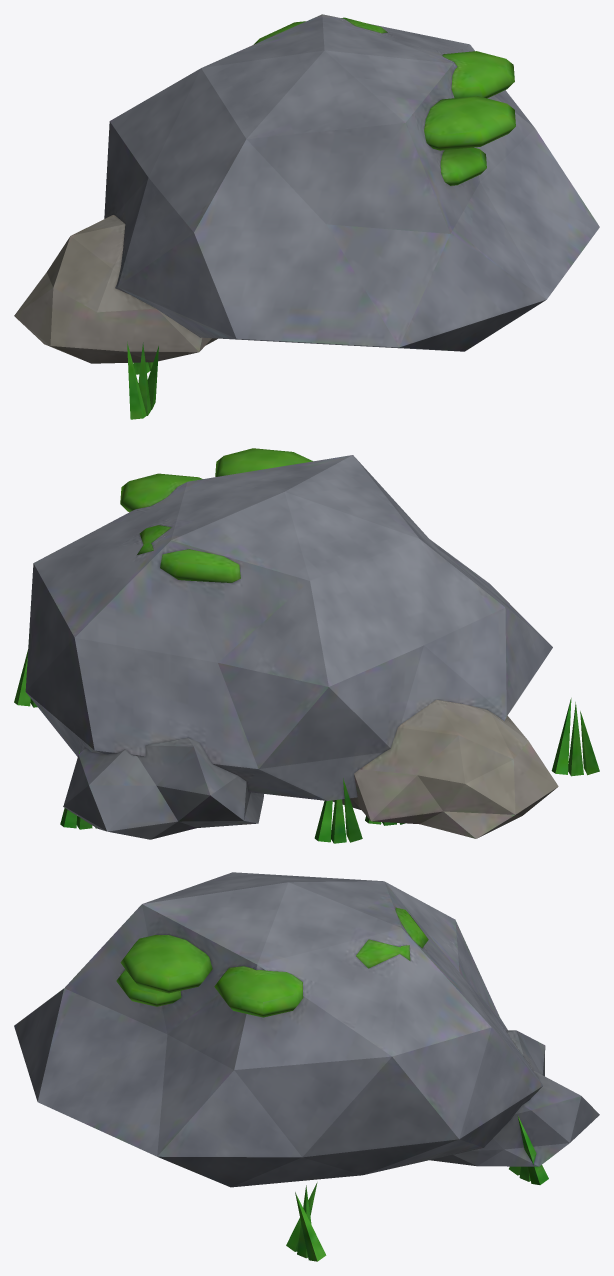
The model's file is rock_obs0.glb.
3 renders of one model, top to bottom at view 1: azimuth 30°, elevation 25°; view 2: azimuth 150°, elevation 25°; view 3: azimuth 270°, elevation 25°, orthographic. The views are drawn at different scales.
Visible parts, largest first — view 1: rock_obs0; view 2: rock_obs0; view 3: rock_obs0.
Boxes of the visible parts, x1,y1,x2,y2 form: rock_obs0: [14, 14, 599, 419]; rock_obs0: [14, 448, 599, 843]; rock_obs0: [14, 872, 599, 1261].
Bounding box in the file's own units: 0.7789 × 0.3719 × 0.7609.
Materials: 1 (1 with a texture image).
